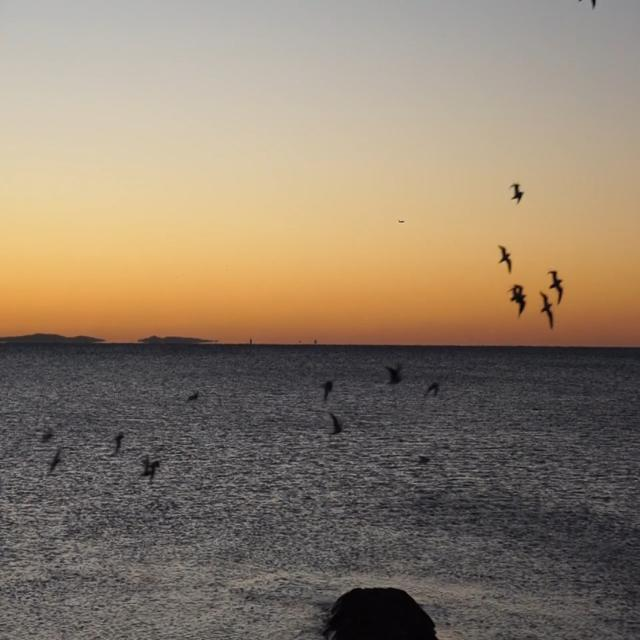bird: (536, 290, 555, 330), (546, 265, 564, 306), (495, 241, 515, 274), (382, 360, 404, 388), (45, 450, 65, 480), (507, 284, 523, 320), (324, 412, 345, 438), (513, 283, 527, 319), (422, 372, 441, 398), (150, 449, 161, 491), (508, 179, 526, 204), (138, 447, 150, 480), (114, 430, 125, 457), (322, 379, 334, 402), (186, 390, 199, 406)
